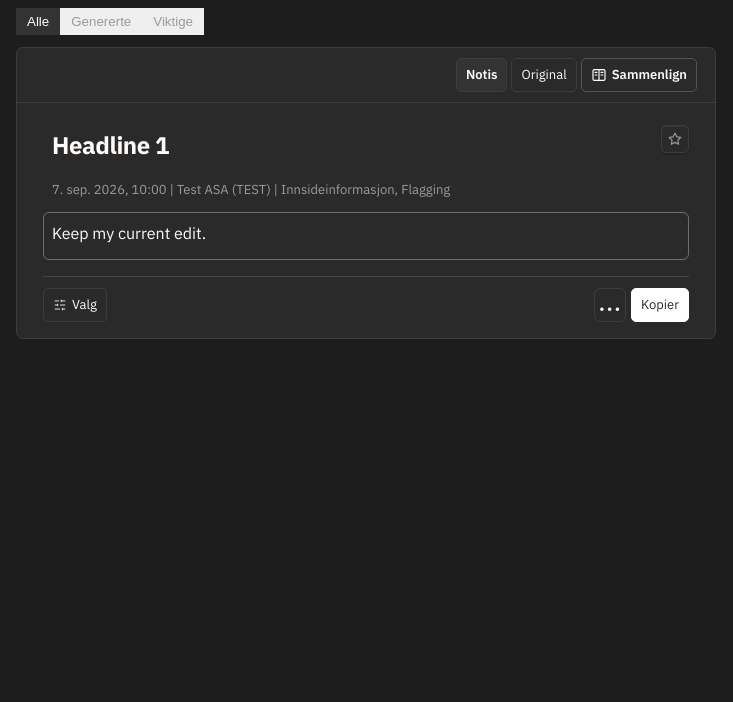
automatically inserts live notices without replacing the focused editor or its edits
Clear the field named "Rediger notistekst" at (366, 236), box [43,212,689,260]
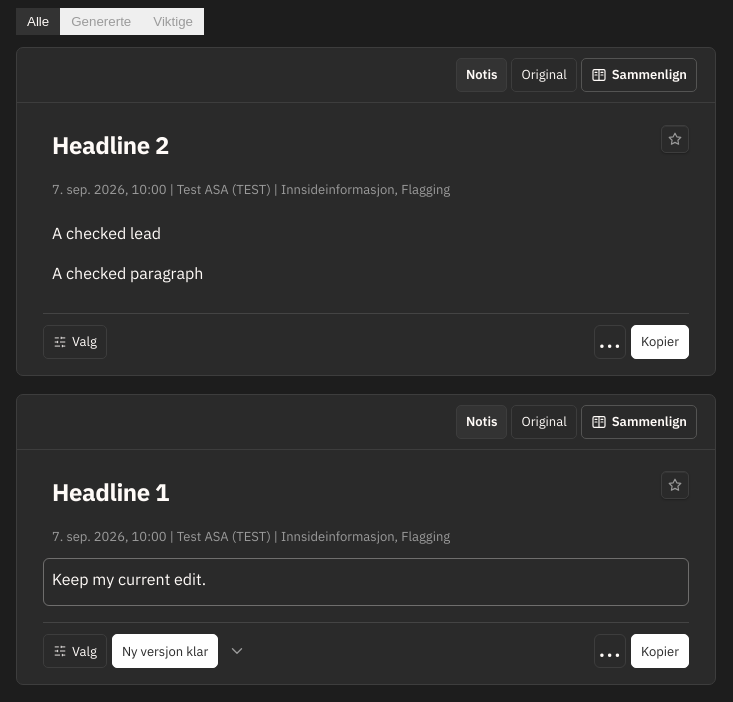
Expected: the element named "Test ASA" shows "Ny versjon klar", [112,634,218,668]
